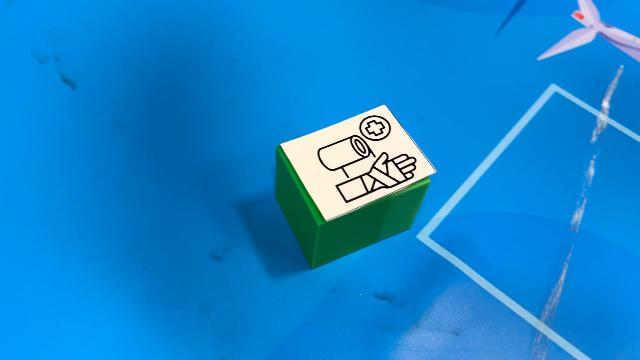bandage: (275, 104, 437, 268)
